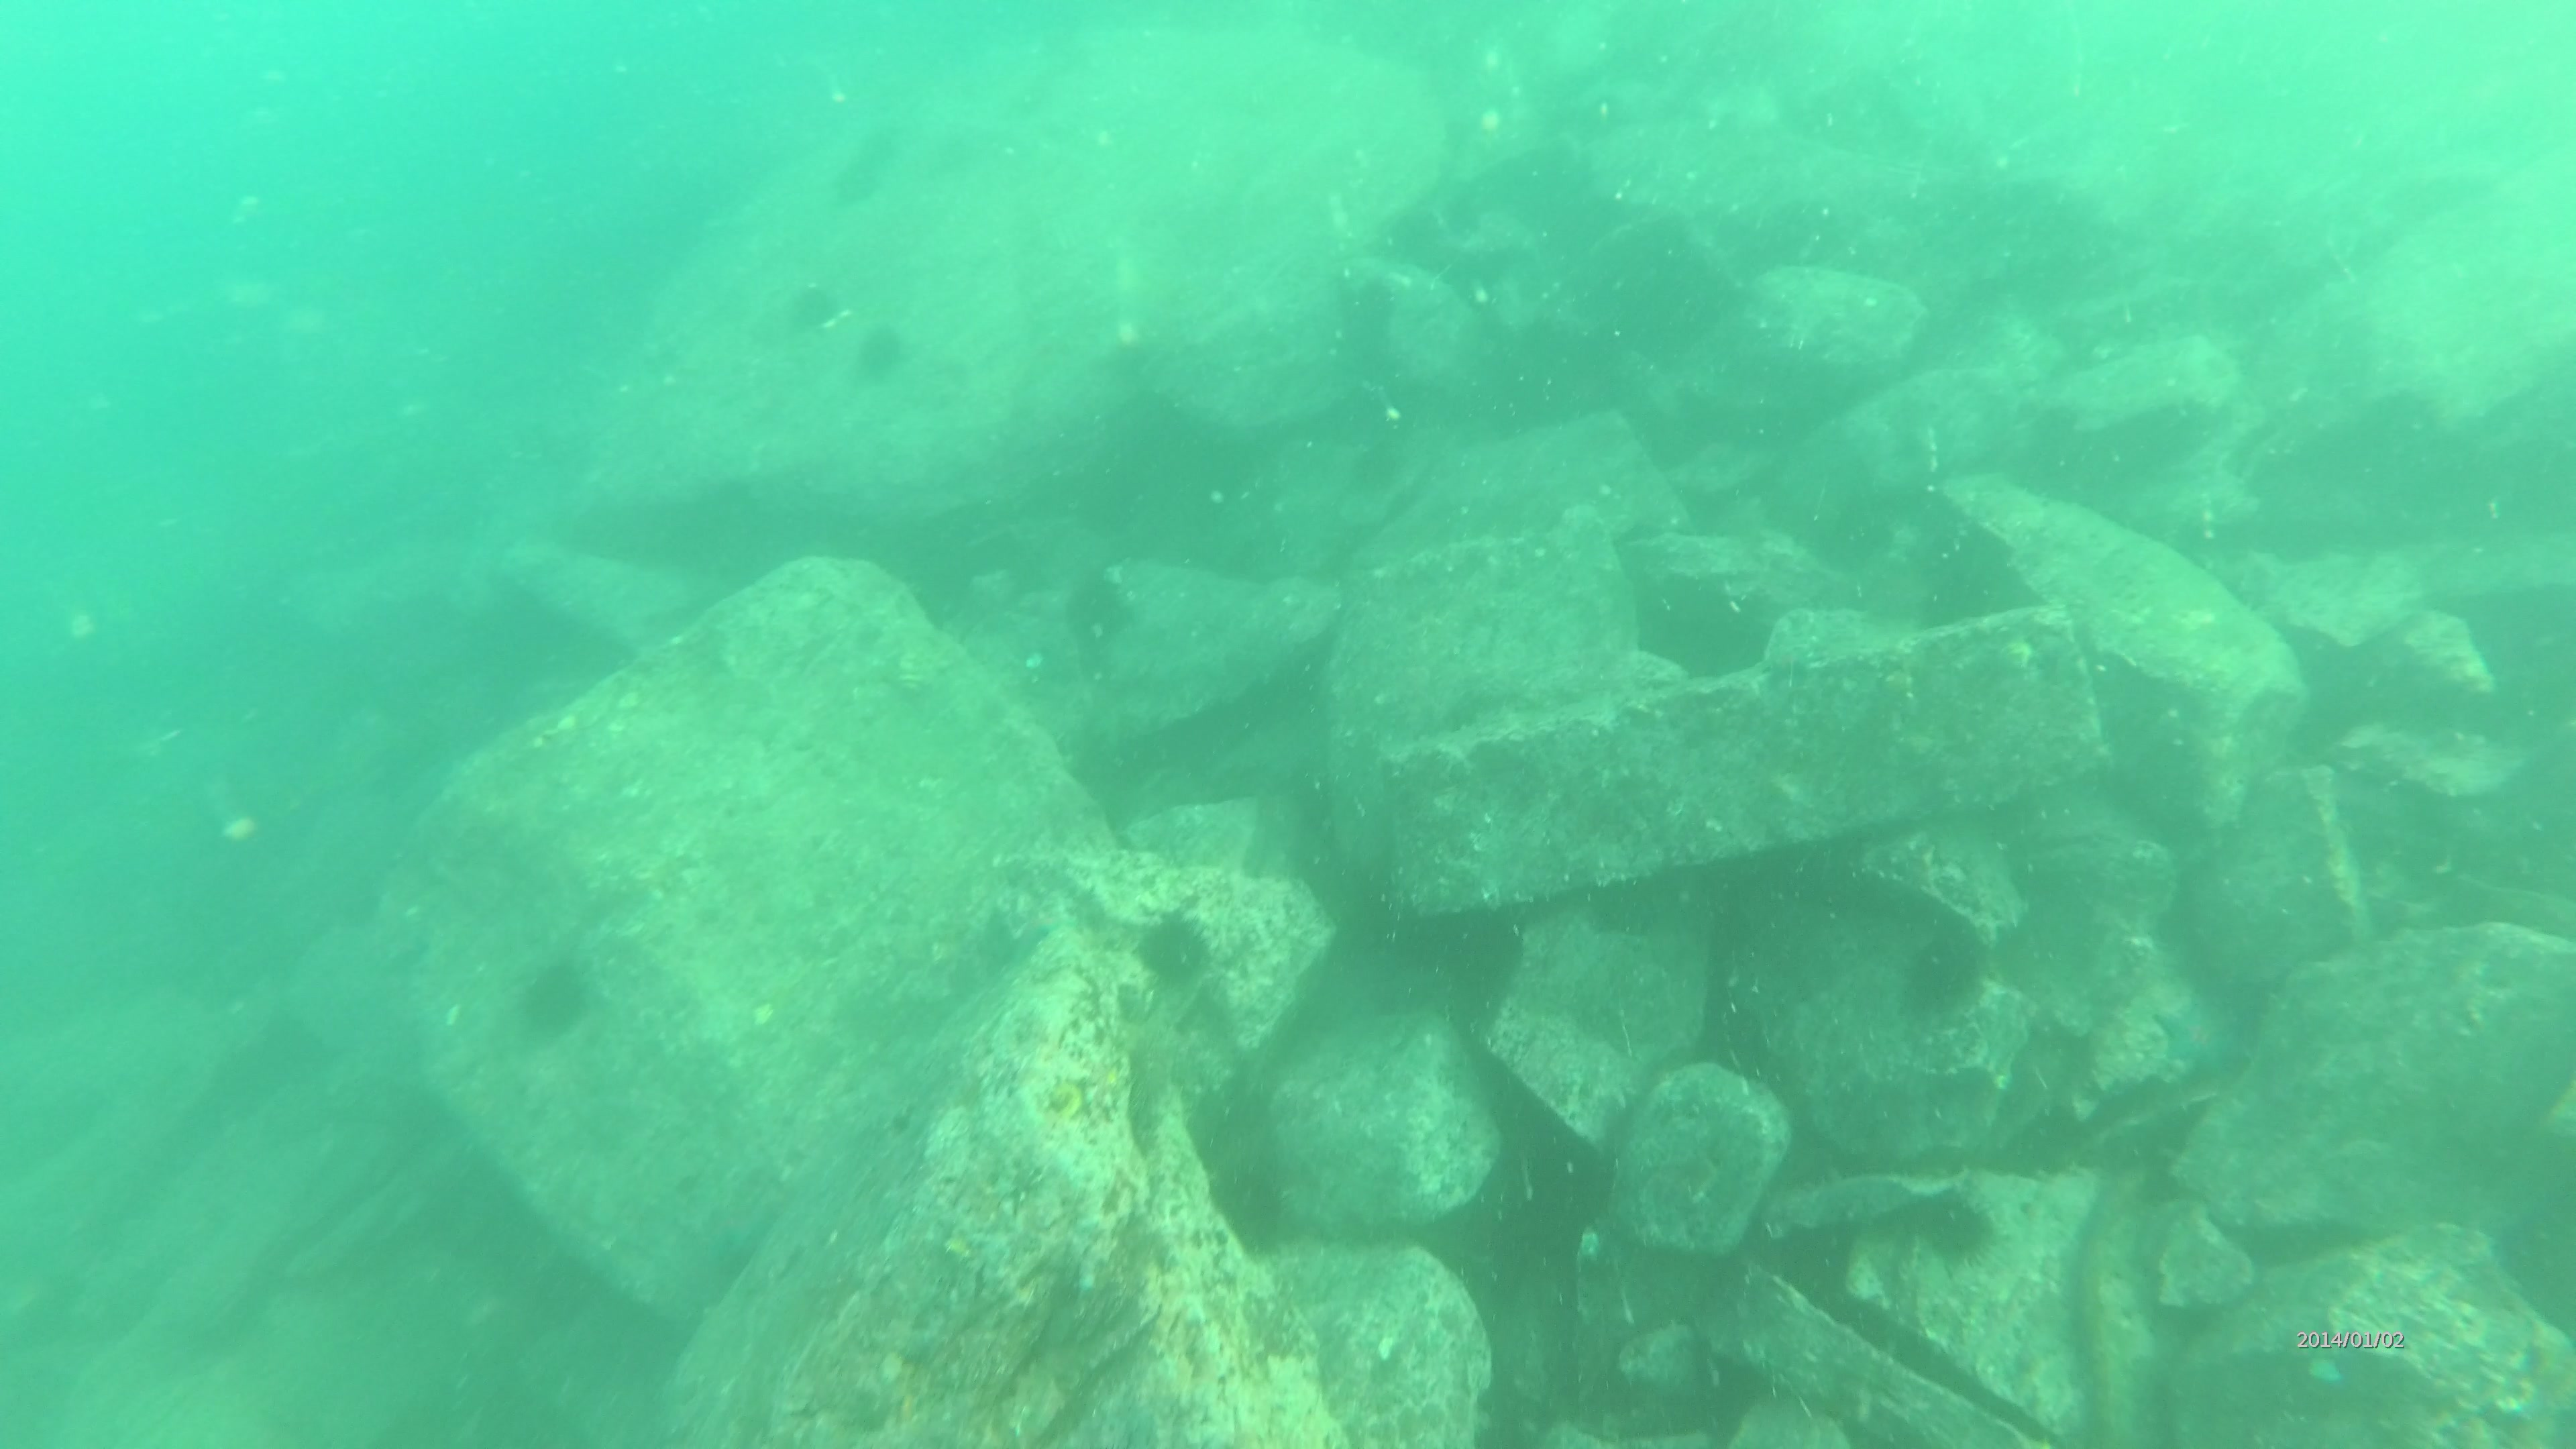echinus: (1913, 925, 1999, 1017), (1065, 570, 1138, 665), (517, 962, 586, 1053), (1138, 911, 1212, 991), (1923, 1191, 1996, 1269), (847, 326, 913, 391), (784, 272, 837, 336), (833, 150, 890, 203)
starfish: (2153, 991, 2242, 1083)
